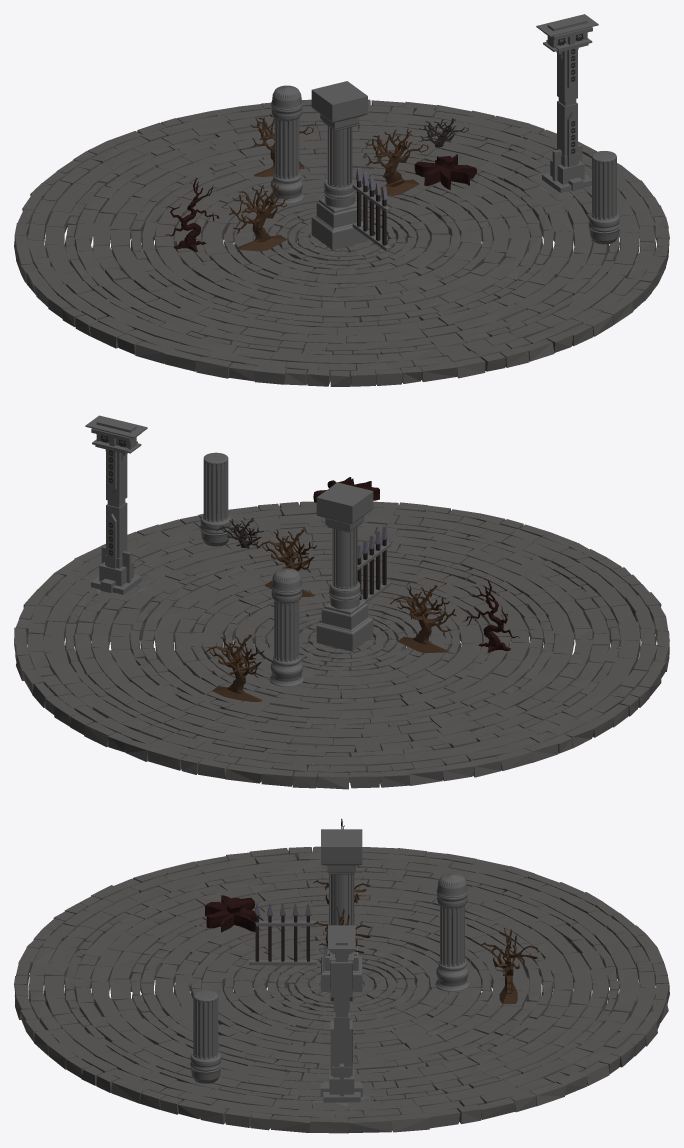
The model's file is Bahçe.fbx.
3 renders of one model, top to bottom at view 1: azimuth 30°, elevation 25°; view 2: azimuth 150°, elevation 25°; view 3: azimuth 270°, elevation 25°, orthographic.
Parts seen in each view (by area): view 1: zemin, duvarlık, Cube, kolon, kolon_2, engel, tree_1, tree_1.002, kök, tree_2, tree_1.001, tree_1.003; view 2: zemin, duvarlık, Cube, kolon, kolon_2, tree_1, tree_1.001, engel, tree_1.002, tree_2, tree_1.003; view 3: zemin, Cube, duvarlık, kolon, kolon_2, engel, kök, tree_1.001.
Part boxes in pixels (bbox=[...]): zemin: bbox=[14, 99, 669, 386]; duvarlık: bbox=[311, 81, 368, 249]; Cube: bbox=[529, 14, 598, 196]; kolon: bbox=[270, 85, 303, 203]; kolon_2: bbox=[588, 151, 619, 244]; engel: bbox=[352, 167, 390, 251]; tree_1: bbox=[229, 184, 288, 251]; tree_1.002: bbox=[365, 128, 428, 195]; kök: bbox=[414, 154, 477, 189]; tree_2: bbox=[165, 178, 219, 251]; tree_1.001: bbox=[250, 114, 313, 177]; tree_1.003: bbox=[419, 118, 468, 147]; zemin: bbox=[14, 501, 669, 789]; duvarlık: bbox=[316, 482, 373, 651]; Cube: bbox=[85, 415, 150, 600]; kolon: bbox=[269, 568, 303, 686]; kolon_2: bbox=[200, 452, 231, 546]; tree_1: bbox=[390, 585, 456, 653]; tree_1.001: bbox=[204, 634, 264, 701]; engel: bbox=[357, 526, 390, 603]; tree_1.002: bbox=[257, 529, 317, 596]; tree_2: bbox=[462, 579, 520, 652]; tree_1.003: bbox=[216, 518, 263, 548]; zemin: bbox=[14, 846, 669, 1133]; Cube: bbox=[313, 925, 370, 1106]; duvarlık: bbox=[321, 829, 362, 991]; kolon: bbox=[435, 873, 469, 992]; kolon_2: bbox=[190, 990, 221, 1083]; engel: bbox=[249, 902, 316, 965]; kök: bbox=[205, 895, 257, 932]; tree_1.001: bbox=[480, 928, 537, 1003].
Size of the model in its own units: 2997 by 866 by 3004.
